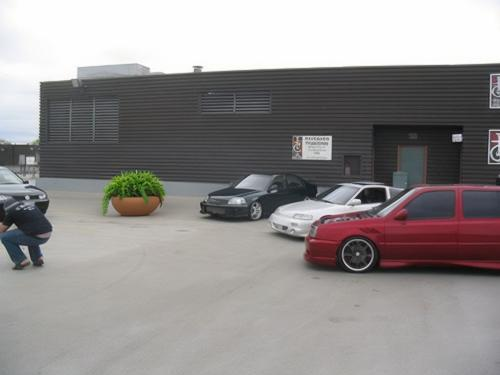car: (303, 185, 500, 274), (270, 181, 406, 241), (200, 173, 319, 222), (1, 167, 50, 219)
person: (1, 199, 54, 271)
person/foot: (12, 260, 30, 270), (34, 257, 46, 268)
person/head: (4, 200, 19, 212)
pottedplant: (104, 170, 166, 216)
